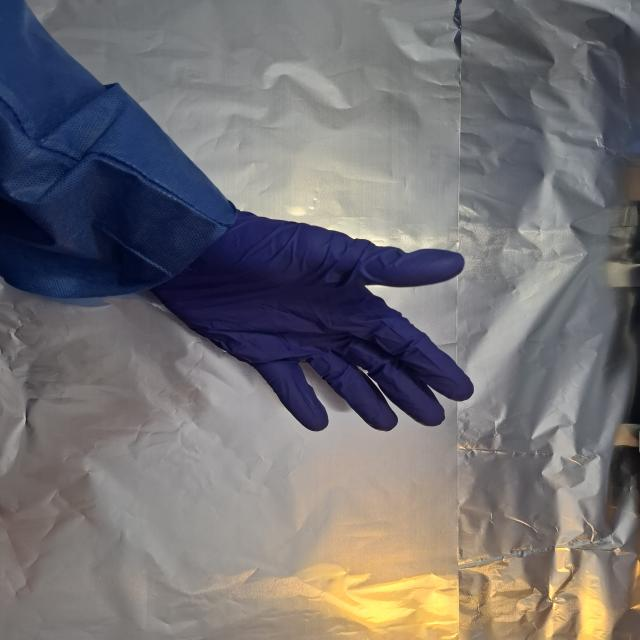glove_on: (145, 209, 477, 434)
